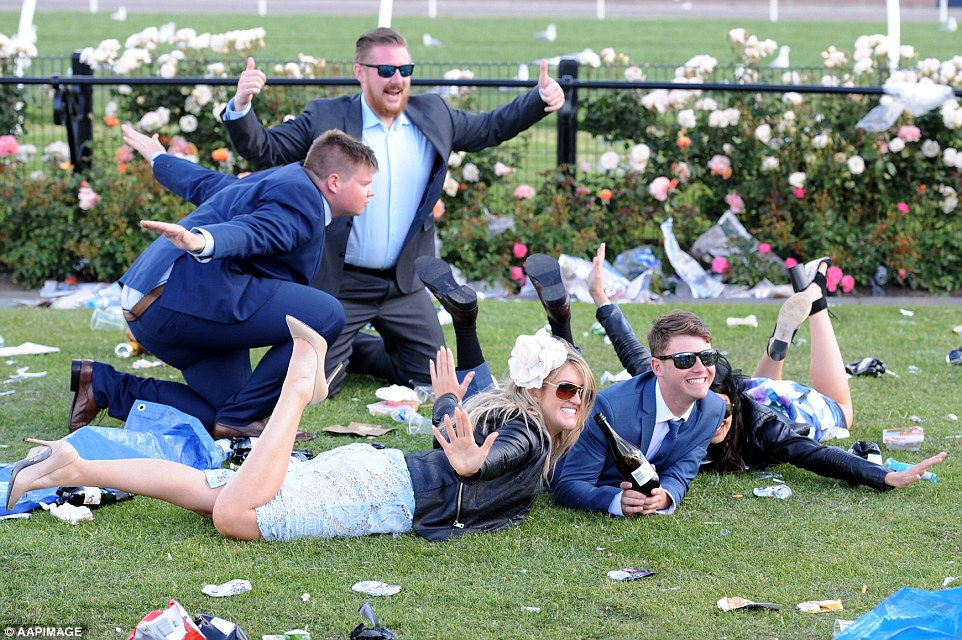Person: (5, 316, 595, 541), (120, 122, 379, 318), (220, 27, 566, 134), (595, 310, 726, 516)
